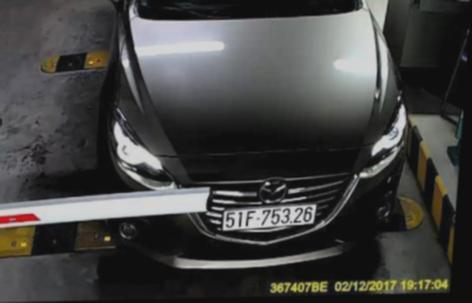License_Plate: (224, 203, 314, 230)
